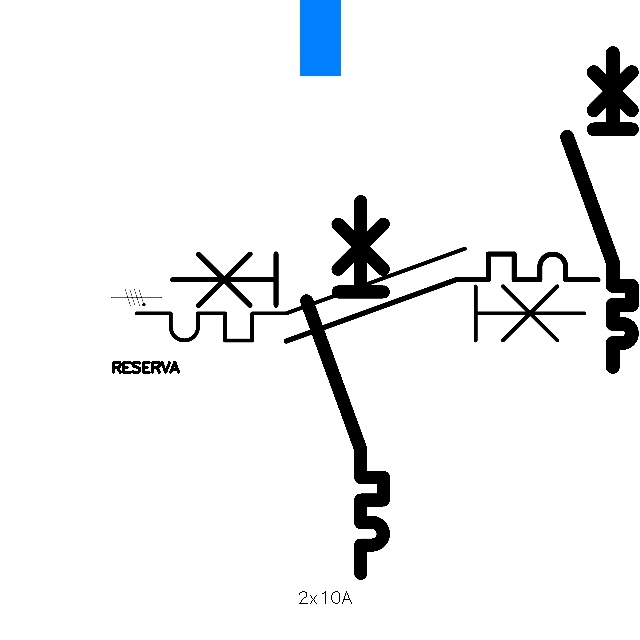interruptor_termomagnetico: (125, 237, 596, 352), (161, 243, 608, 352), (297, 192, 393, 583), (559, 45, 640, 375)
